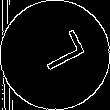L_SW: (26, 29, 84, 81)
